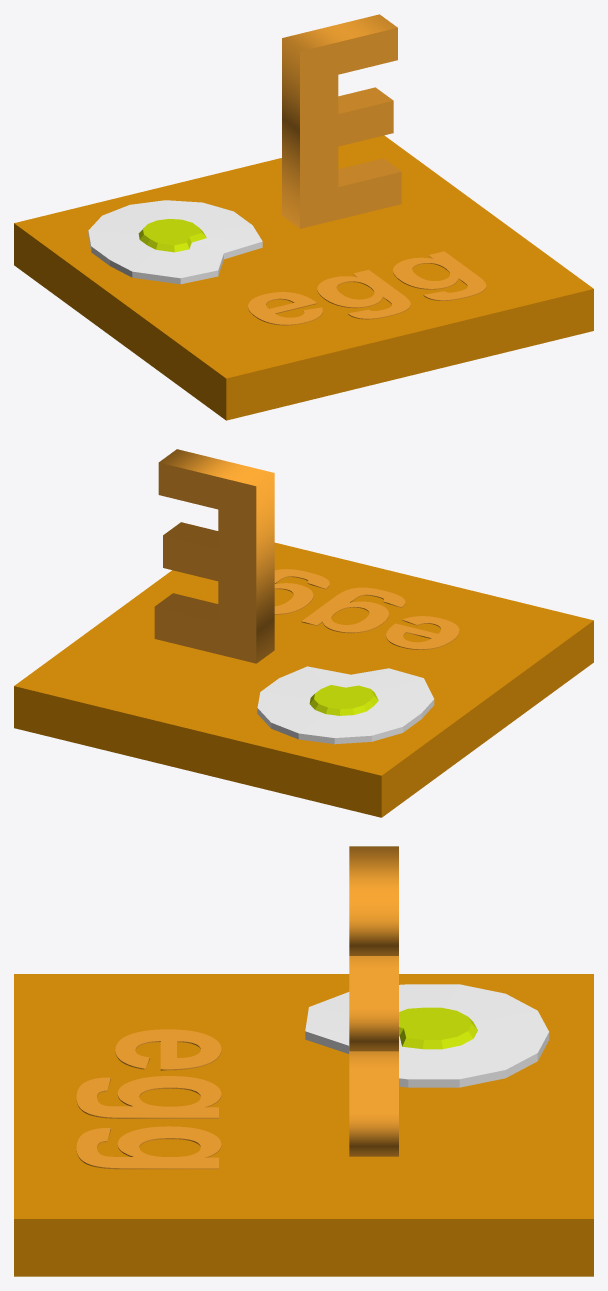
The model's file is eletter.glb.
3 renders of one model, top to bottom at view 1: azimuth 30°, elevation 25°; view 2: azimuth 150°, elevation 25°; view 3: azimuth 270°, elevation 25°, orthographic. The views are drawn at different scales.
Visible parts, largest first — view 1: Cube, Text.003, Circle.004, Text.002; view 2: Cube, Text.003, Circle.004, Text.002; view 3: Cube, Text.003, Circle.004, Text.002.
Boxes of the visible parts, x1,y1,x2,y2 form: Cube: [14, 135, 593, 420]; Text.003: [282, 14, 401, 228]; Circle.004: [88, 200, 262, 284]; Text.002: [248, 251, 486, 325]; Cube: [14, 542, 593, 817]; Text.003: [154, 449, 274, 663]; Circle.004: [257, 666, 434, 744]; Text.002: [274, 569, 459, 649]; Cube: [14, 974, 593, 1276]; Text.003: [349, 846, 398, 1156]; Circle.004: [305, 984, 549, 1087]; Text.002: [76, 1029, 221, 1169].
Bounding box in the file's own units: 0.327 × 0.1966 × 0.327.
